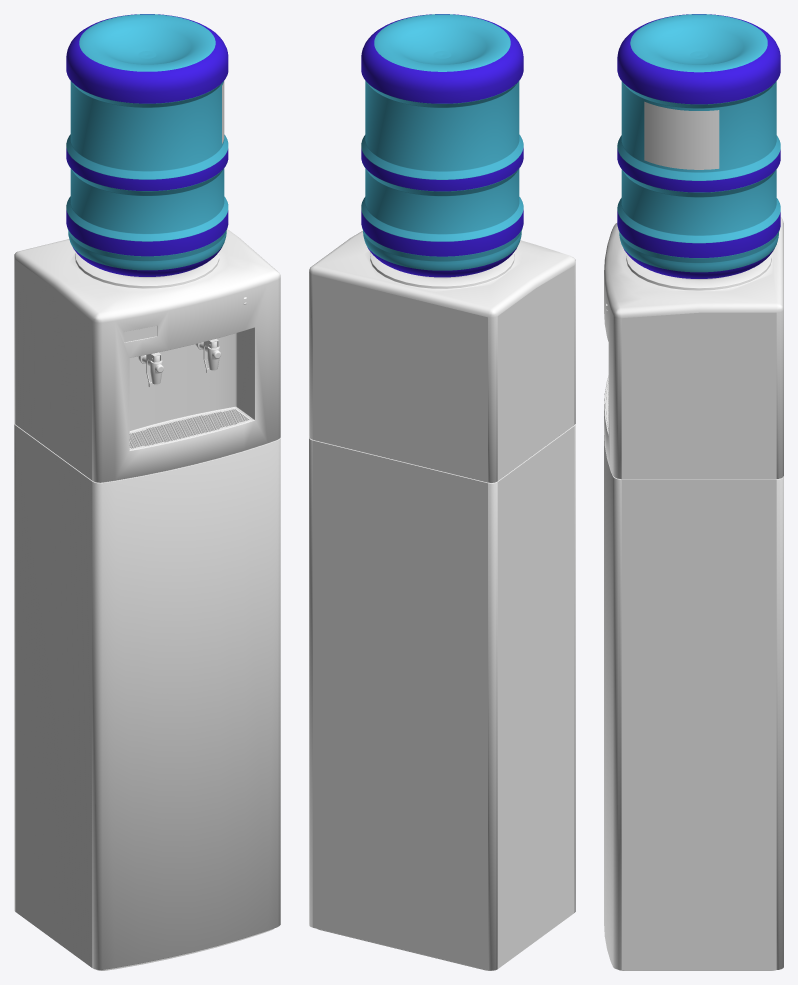
The model's file is cooler_with_bottle.glb.
3 views of the same model, side by side, from view 1: azimuth 30°, elevation 25°; view 2: azimuth 150°, elevation 25°; view 3: azimuth 270°, elevation 25° (orthographic).
Parts seen in each view (by area): view 1: Stand, Cooler, Bottle_19L_with_water, Water drain; view 2: Stand, Cooler, Bottle_19L_with_water; view 3: Stand, Cooler, Bottle_19L_with_water, Sticker.
Boxes of the visible parts, left/top/right/bottom form: Stand: left=14, top=423, right=280, bottom=970; Cooler: left=14, top=229, right=280, bottom=482; Bottle_19L_with_water: left=66, top=14, right=228, bottom=276; Water drain: left=129, top=408, right=252, bottom=449; Stand: left=309, top=424, right=575, bottom=970; Cooler: left=309, top=231, right=575, bottom=482; Bottle_19L_with_water: left=361, top=14, right=523, bottom=277; Stand: left=604, top=435, right=783, bottom=970; Cooler: left=604, top=217, right=783, bottom=478; Bottle_19L_with_water: left=617, top=14, right=780, bottom=278; Sticker: left=644, top=101, right=719, bottom=169.
Bounding box in the file's own units: 0.36 × 1.61 × 0.297.
